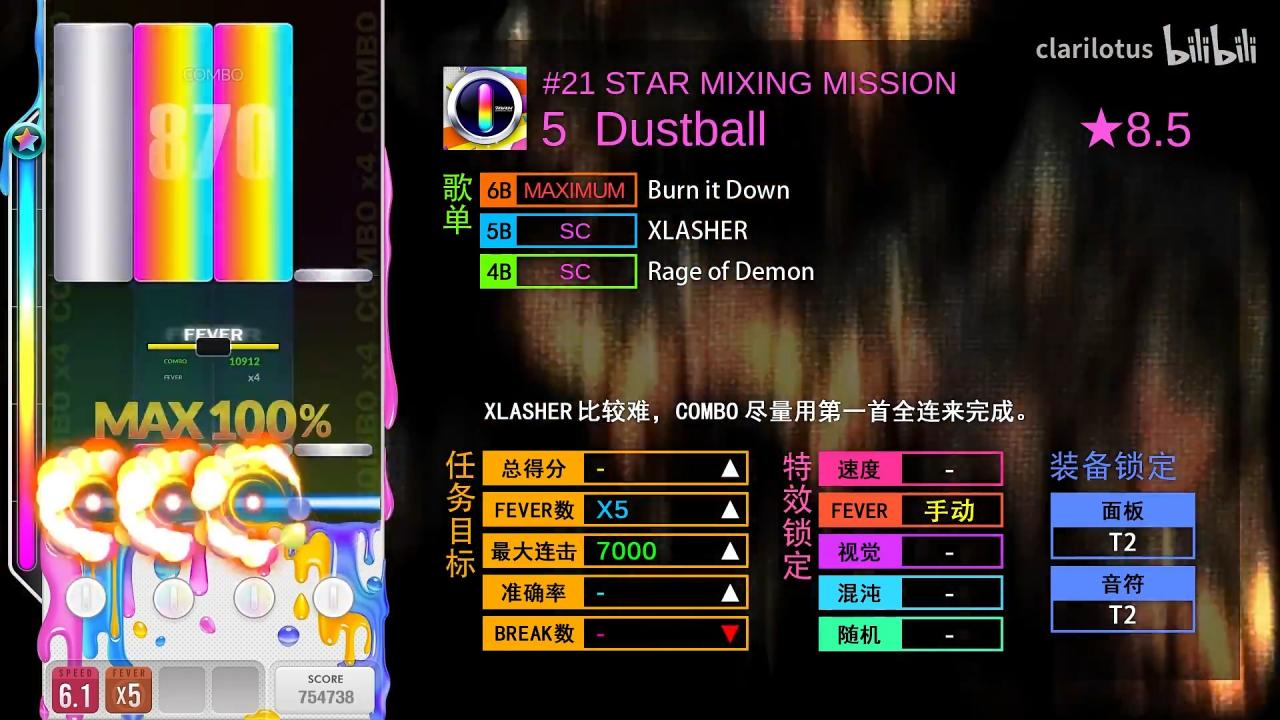hold-end: (133, 22, 214, 37), (212, 23, 293, 37), (53, 23, 133, 37)
hold-start: (53, 269, 133, 283), (134, 269, 214, 283), (214, 268, 293, 282)
note: (294, 442, 372, 458), (134, 443, 214, 458), (214, 443, 293, 458), (294, 268, 372, 283)
